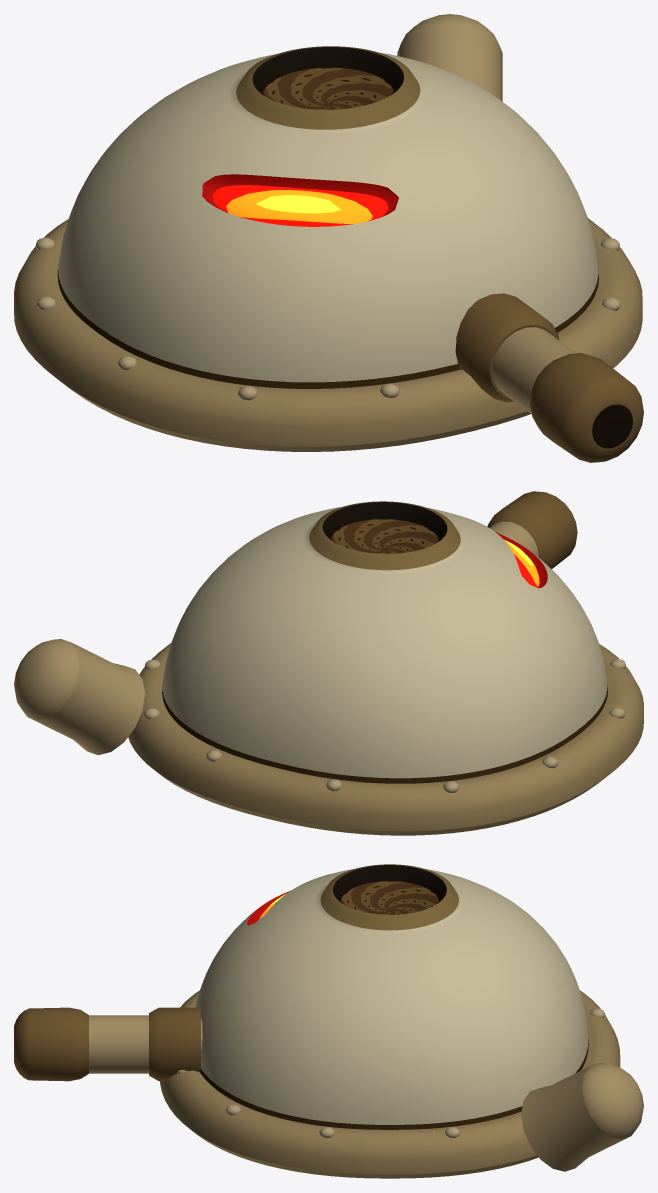
File: bronze_whorl_129.glb
3 views of the same model, one above another, from view 1: azimuth 30°, elevation 25°; view 2: azimuth 150°, elevation 25°; view 3: azimuth 270°, elevation 25° (orthographic). The views are drawn at different scales.
Visible parts, largest first — view 1: dome, ring, muzzle, slit_glass, knob, collar, iris, barrel; view 2: dome, ring, knob, muzzle, iris, barrel, slit_glass; view 3: dome, ring, knob, muzzle, barrel, collar, iris.
Boxes of the visible parts, left/top/right/bottom form: dome: left=57, top=46, right=598, bottom=388; ring: left=14, top=218, right=642, bottom=451; muzzle: left=530, top=353, right=643, bottom=462; slit_glass: left=212, top=185, right=388, bottom=226; knob: left=397, top=14, right=502, bottom=101; collar: left=455, top=293, right=558, bottom=402; iris: left=263, top=67, right=393, bottom=109; barrel: left=492, top=327, right=576, bottom=413; dome: left=162, top=501, right=607, bottom=783; ring: left=128, top=643, right=643, bottom=835; knob: left=14, top=639, right=144, bottom=755; muzzle: left=487, top=491, right=577, bottom=568; iris: left=331, top=519, right=438, bottom=553; barrel: left=490, top=521, right=538, bottom=557; slit_glass: left=504, top=539, right=539, bottom=587; dome: left=195, top=864, right=588, bottom=1129; ring: left=160, top=990, right=620, bottom=1178; knob: left=521, top=1063, right=643, bottom=1171; muzzle: left=14, top=1007, right=88, bottom=1081; barrel: left=89, top=1015, right=202, bottom=1073; collar: left=149, top=1007, right=200, bottom=1081; iris: left=340, top=881, right=438, bottom=914.
Size of the model in its own units: 18.22 by 7.51 by 22.42.
